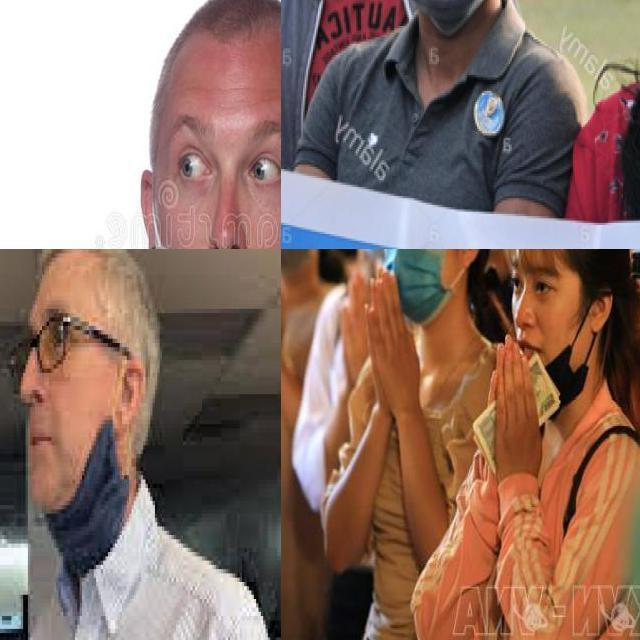hairnet: (19, 288, 104, 527), (511, 281, 607, 410)
no_apron: (488, 332, 551, 477), (365, 264, 422, 415)
no_gloves: (28, 251, 164, 413), (148, 0, 283, 141), (509, 245, 633, 327)
